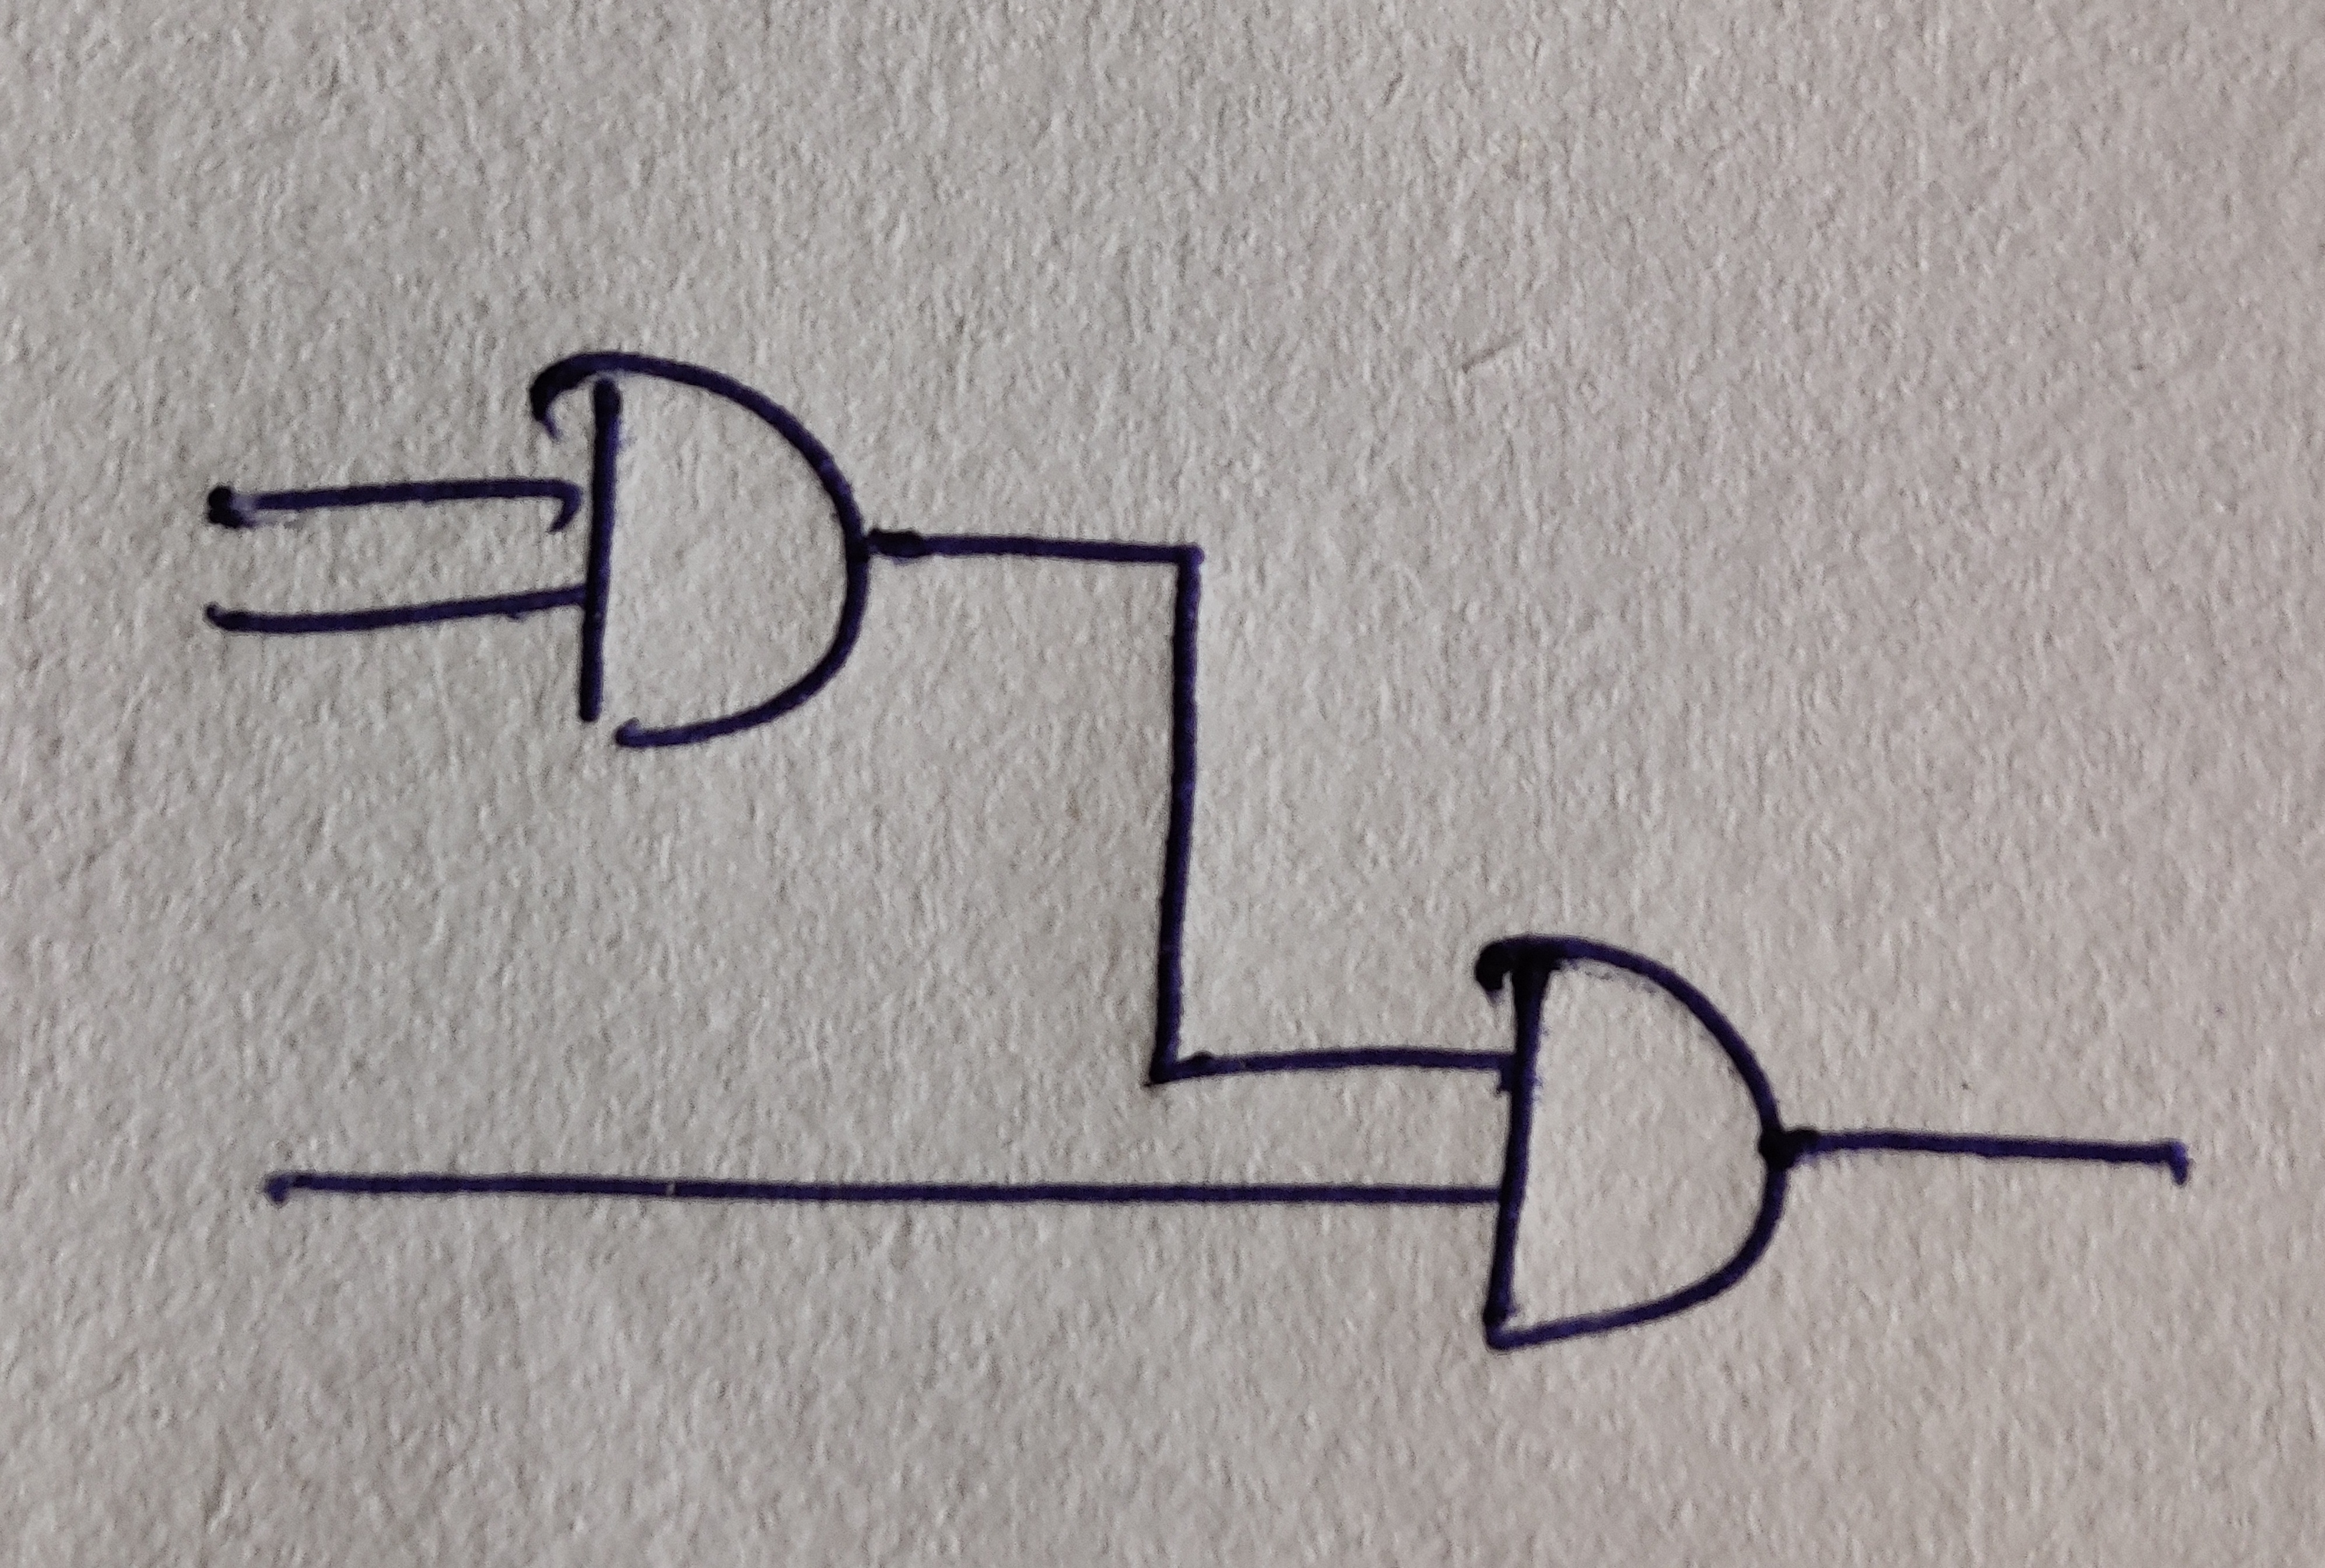and: (527, 352, 869, 749), (1477, 933, 1788, 1349)
